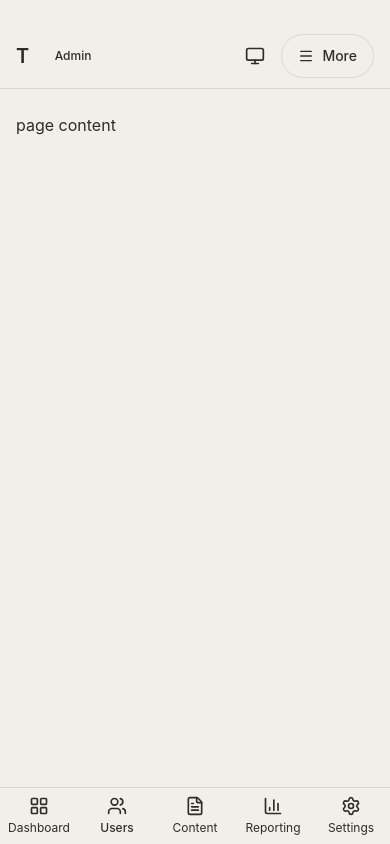
Test: AdminShell › surfaces Blog and System via the mobile 'More' menu (so the bottom bar stays uncrowded)
What coordinates should you click on to do the following:
click the button "More"
I would click on:
 (328, 56)
Its box is [281,34,374,78].
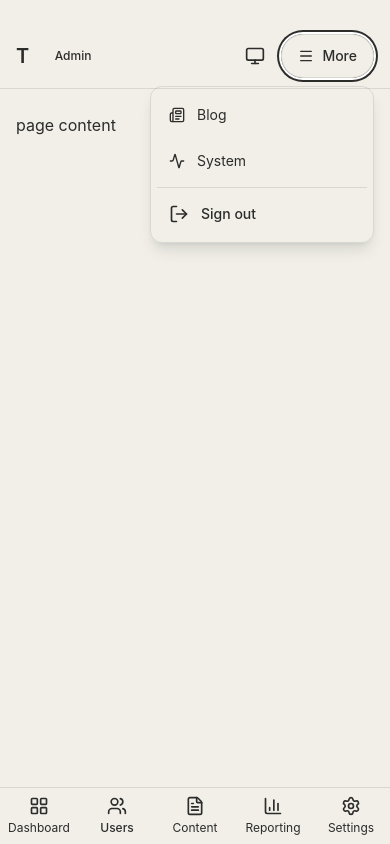
Now the link "Blog" is shown, box [169,106,226,123]
Now the link "System" is shown, box [169,152,246,169]
